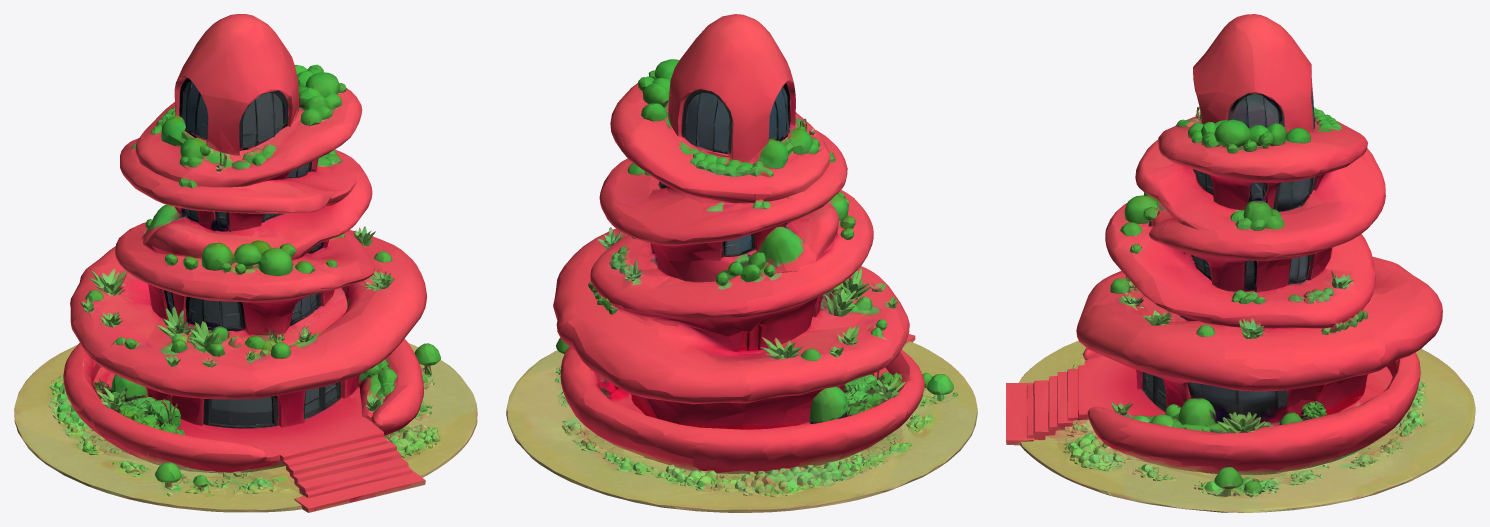
File: bld-bio-pod-tower-v2-mesh.glb
3 views of the same model, side by side, from view 1: azimuth 30°, elevation 25°; view 2: azimuth 150°, elevation 25°; view 3: azimuth 270°, elevation 25° (orthographic).
Visible parts, largest first — view 1: Mesh_0; view 2: Mesh_0; view 3: Mesh_0.
Part boxes in pixels (bbox=[...]): Mesh_0: bbox=[14, 14, 477, 512]; Mesh_0: bbox=[506, 14, 977, 512]; Mesh_0: bbox=[1006, 14, 1475, 512].
Size of the model in its own units: 1.9 by 1.77 by 1.9.
1 material, 1 textured.
